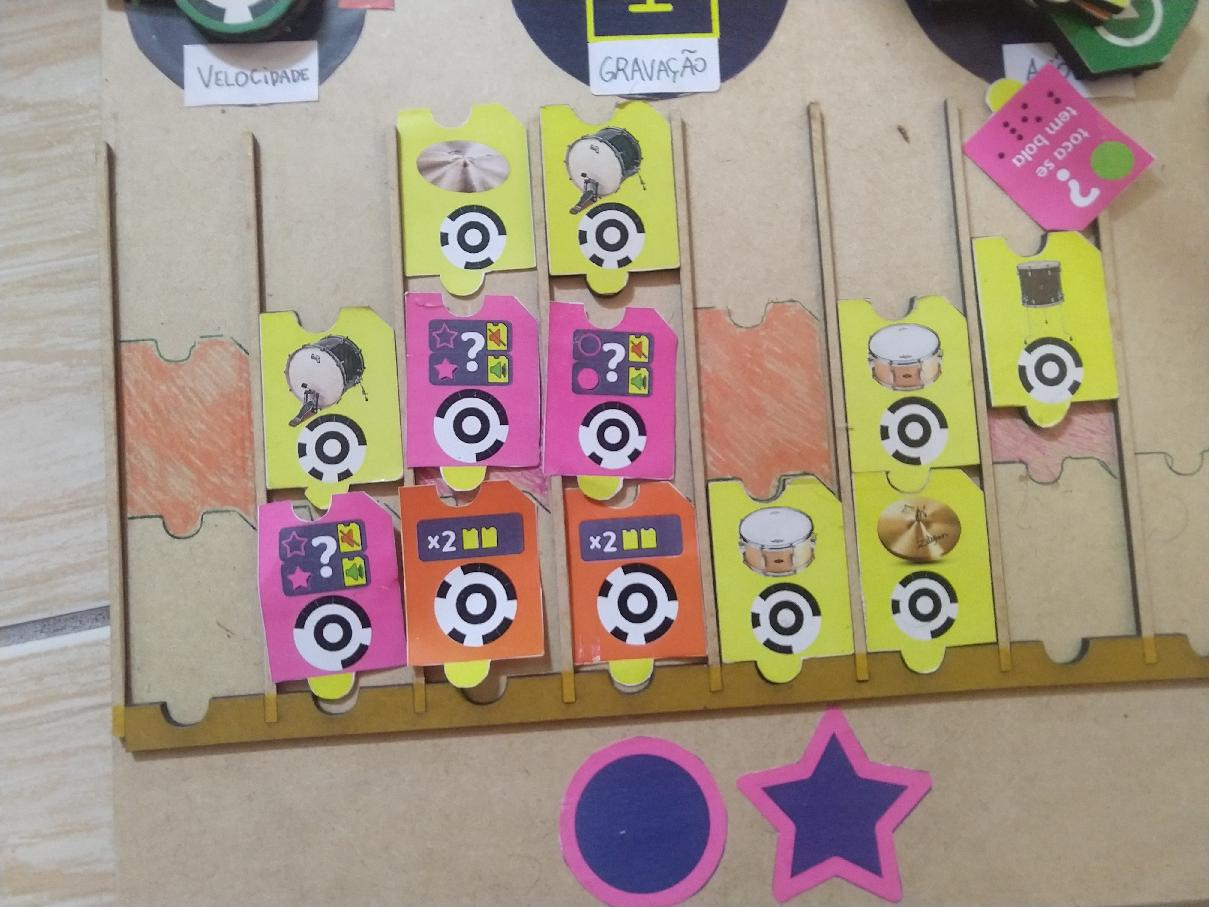bumbo: (256, 304, 405, 512), (537, 96, 681, 296)
